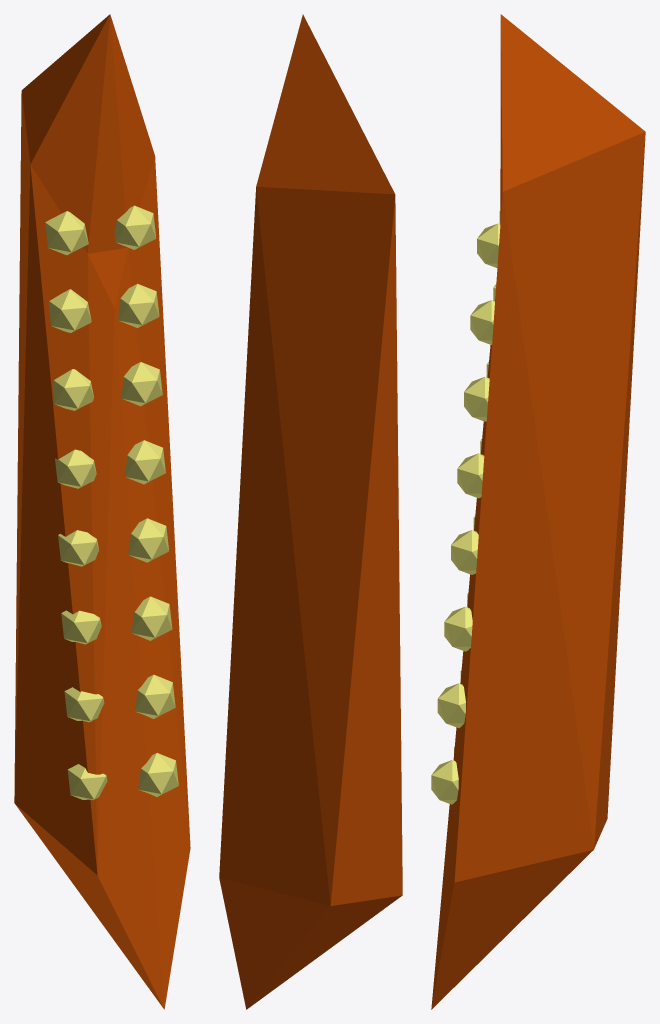
File: tentacle.fbx
The picture shows the model from 3 angles, left to right: view 1: azimuth 30°, elevation 25°; view 2: azimuth 210°, elevation 25°; view 3: azimuth 270°, elevation 25°; orthographic projection. The views are drawn at different scales.
Visible parts, largest first — view 1: Icosphere, Icosphere.001; view 2: Icosphere; view 3: Icosphere, Icosphere.001.
Part boxes in pixels (x1=…): Icosphere: x1=14, y1=14, x2=190, y2=1009; Icosphere.001: x1=45, y1=205, x2=178, y2=799; Icosphere: x1=219, y1=14, x2=402, y2=1009; Icosphere: x1=431, y1=14, x2=645, y2=1009; Icosphere.001: x1=431, y1=211, x2=500, y2=804.
Size of the model in its own units: 74.57 by 610 by 120.
